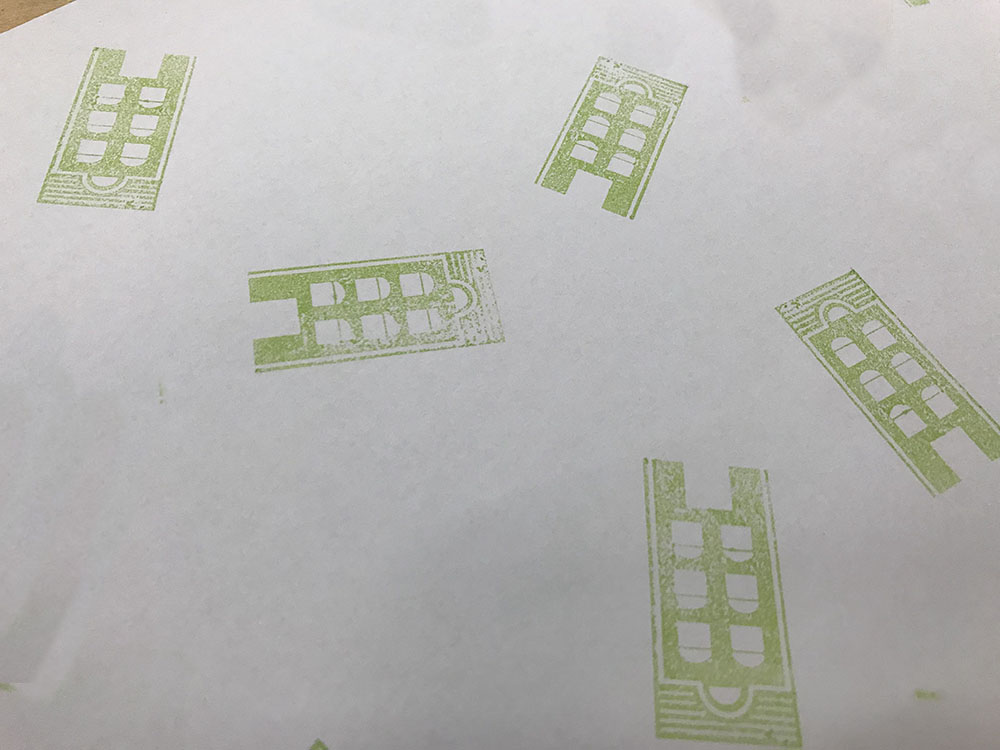build: (762, 258, 1000, 506), (630, 447, 819, 747), (216, 237, 532, 392), (516, 44, 706, 244), (23, 35, 209, 216)
